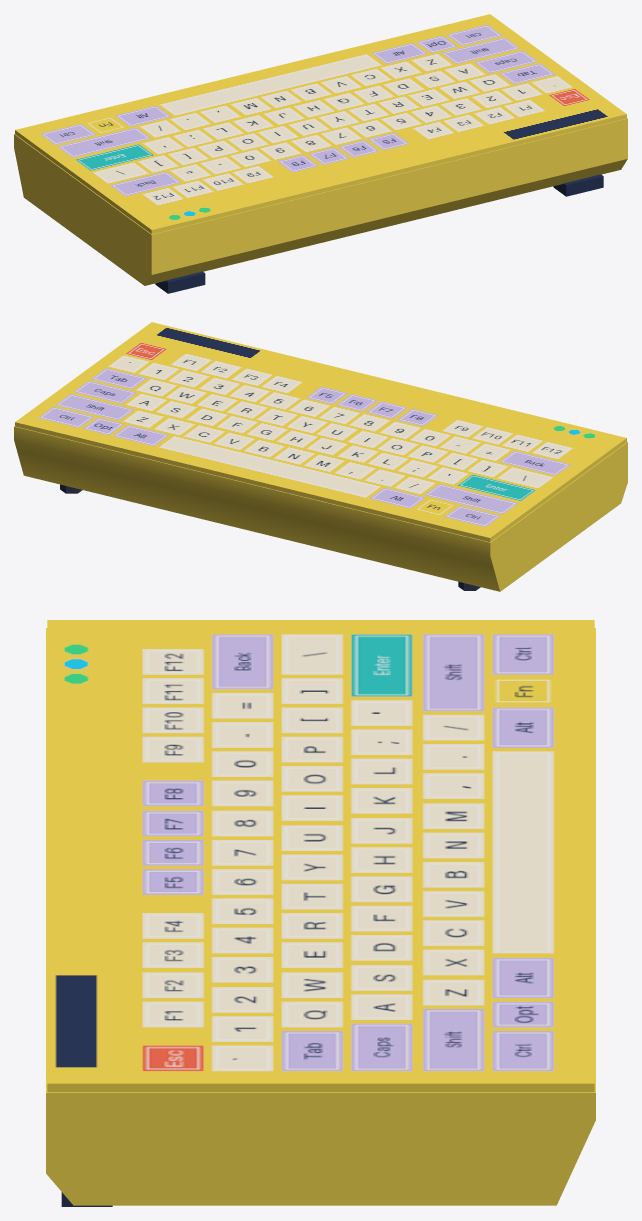
File: bureau_keyboard_lod1.glb
The picture shows the model from 3 angles, top to bottom: view 1: azimuth 30°, elevation 25°; view 2: azimuth 150°, elevation 25°; view 3: azimuth 270°, elevation 25°; orthographic projection. The views are drawn at different scales.
Visible parts, largest first — view 1: bureau_keyboard_LOD1; view 2: bureau_keyboard_LOD1; view 3: bureau_keyboard_LOD1.
Boxes of the visible parts, x1,y1,x2,y2 form: bureau_keyboard_LOD1: (14,14,627,293); bureau_keyboard_LOD1: (14,322,627,591); bureau_keyboard_LOD1: (46,620,595,1206).
Bounding box in the file's own units: 14 × 2 × 7.
1 material, 1 textured.
